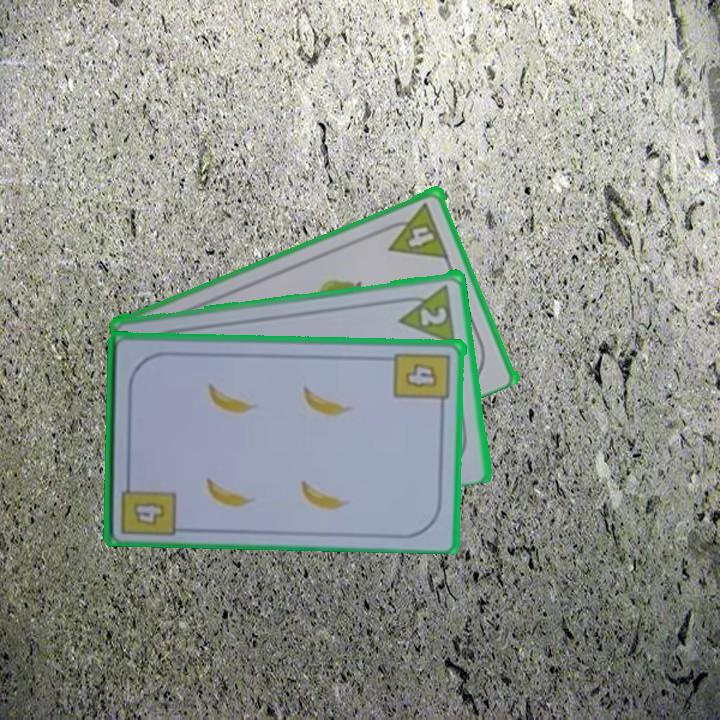2p: (417, 303, 450, 329)
4b: (392, 349, 454, 412), (130, 497, 169, 528)
4p: (388, 218, 447, 261)
